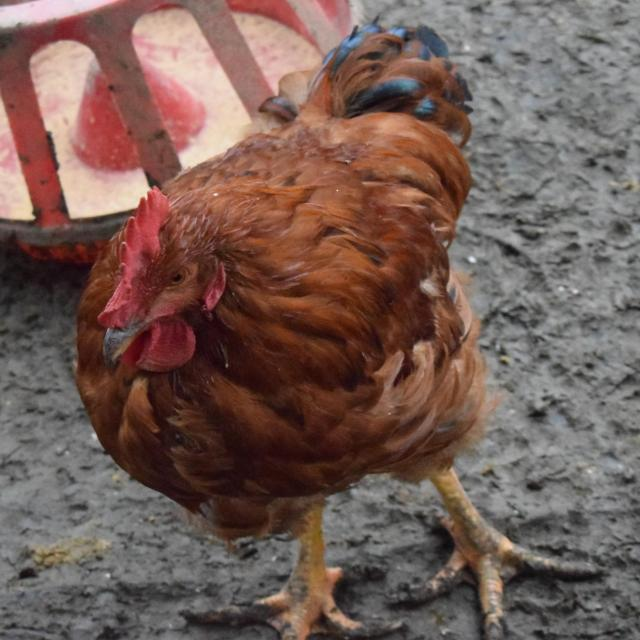cook: (77, 25, 596, 640)
